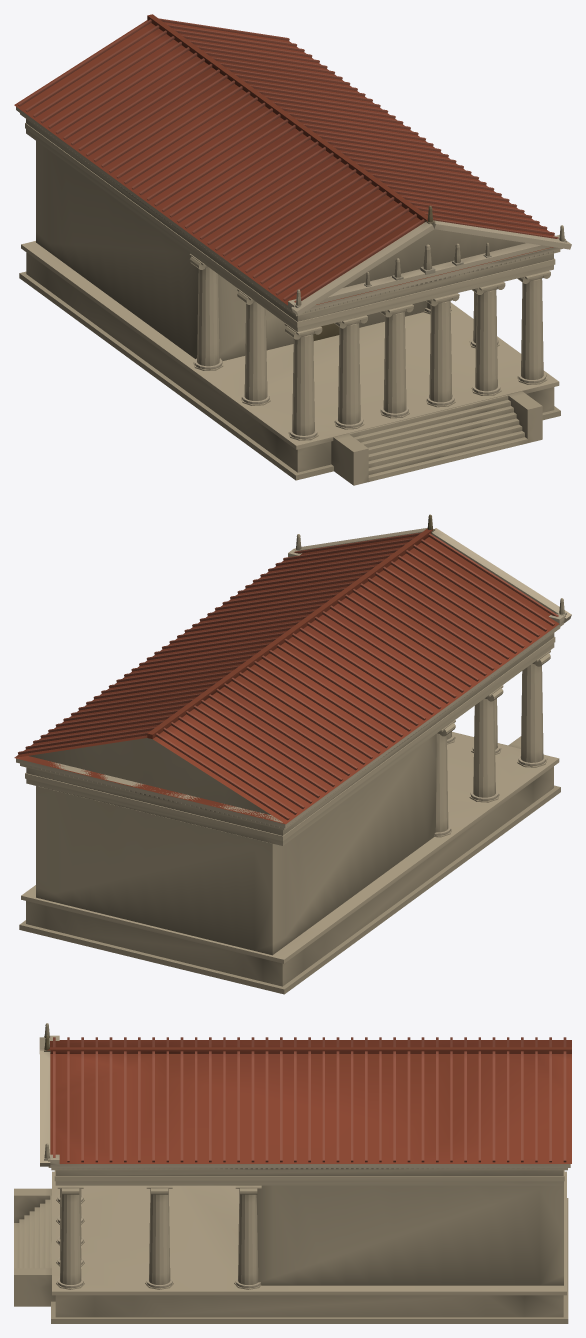
The model's file is tiber-island-temple.glb.
3 renders of one model, top to bottom at view 1: azimuth 30°, elevation 25°; view 2: azimuth 150°, elevation 25°; view 3: azimuth 270°, elevation 25°, orthographic. The views are drawn at different scales.
Parts seen in each view (by area): view 1: p2_roof, p1_columns, p0_podium; view 2: p2_roof, p1_columns, p0_podium; view 3: p2_roof, p0_podium, p1_columns.
Part boxes in pixels (left/top/right/bottom): p2_roof: left=14, top=14, right=571, bottom=331; p1_columns: left=36, top=141, right=550, bottom=440; p0_podium: left=19, top=241, right=560, bottom=485; p2_roof: left=14, top=514, right=571, bottom=845; p1_columns: left=36, top=650, right=550, bottom=955; p0_podium: left=19, top=732, right=560, bottom=994; p2_roof: left=39, top=1023, right=571, bottom=1185; p0_podium: left=14, top=1171, right=568, bottom=1323; p1_columns: left=56, top=1181, right=563, bottom=1289.
Size of the model in its own units: 25.76 by 21.81 by 48.32.
